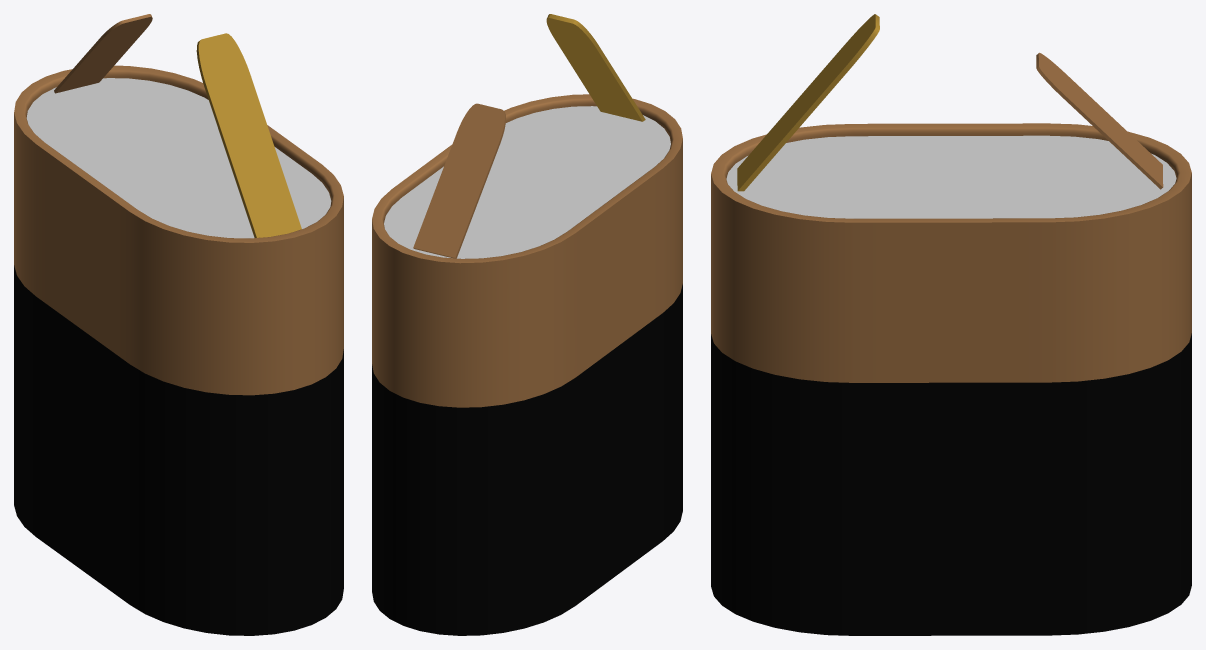
File: batteryBig.fbx
3 views of the same model, side by side, from view 1: azimuth 30°, elevation 25°; view 2: azimuth 150°, elevation 25°; view 3: azimuth 270°, elevation 25° (orthographic). The views are drawn at different scales.
Parts seen in each view (by area): view 1: Cylinder.006, Cylinder.007, Cube.003, Cube.002; view 2: Cylinder.006, Cylinder.007, Cube.002, Cube.003; view 3: Cylinder.006, Cylinder.007, Cube.003, Cube.002.
Boxes of the visible parts, <box> form: Cylinder.006: <box>14,65,343,635</box>; Cylinder.007: <box>26,78,331,238</box>; Cube.003: <box>196,33,301,237</box>; Cube.002: <box>54,14,152,93</box>; Cylinder.006: <box>372,94,682,635</box>; Cylinder.007: <box>384,106,670,258</box>; Cube.002: <box>413,103,506,258</box>; Cube.003: <box>546,14,645,121</box>; Cylinder.006: <box>711,123,1191,635</box>; Cylinder.007: <box>726,135,1176,218</box>; Cube.003: <box>737,14,879,191</box>; Cube.002: <box>1036,52,1163,189</box>.
Size of the model in its own units: 544 by 1444 by 1113.
